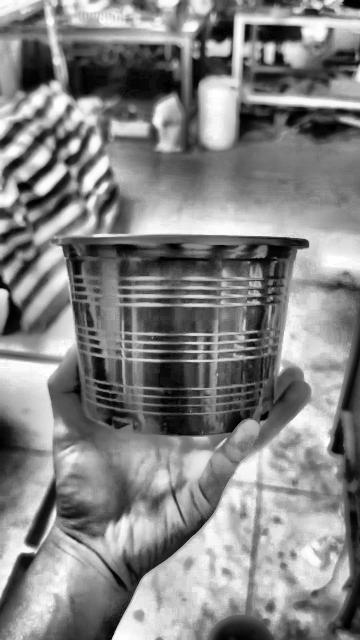pot: (54, 235, 307, 436)
